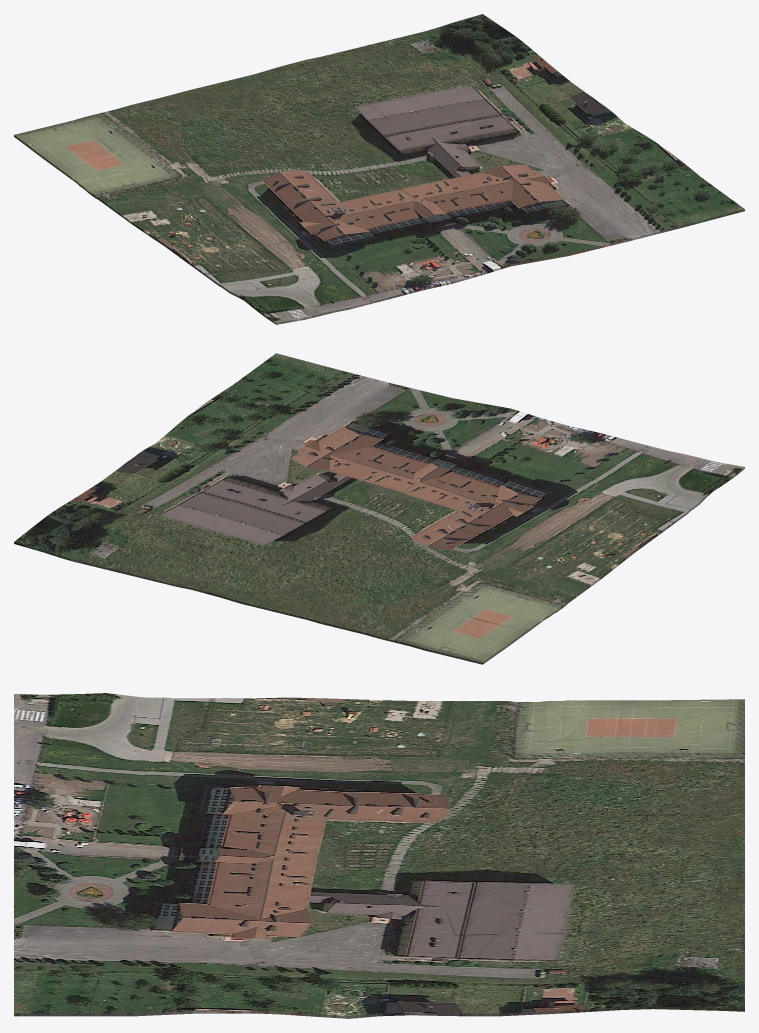
Rendered from school.glb.
3 renders of one model, top to bottom at view 1: azimuth 30°, elevation 25°; view 2: azimuth 150°, elevation 25°; view 3: azimuth 270°, elevation 25°, orthographic. The views are drawn at different scales.
Parts seen in each view (by area): view 1: BuildingMesh-00028, BuildingMesh-00048, BuildingMesh-00049, BuildingMesh-00036, BuildingMesh-00050, BuildingMesh-00051, BuildingMesh-00037, BuildingMesh-00035, BuildingMesh-00025, BuildingMesh-00023, BuildingMesh-00040, BuildingMesh-00022; view 2: BuildingMesh-00023, BuildingMesh-00051, BuildingMesh-00048, BuildingMesh-00022, BuildingMesh-00050, BuildingMesh-00049, BuildingMesh-00028, BuildingMesh-00040, BuildingMesh-00025, BuildingMesh-00035, BuildingMesh-00036, BuildingMesh-00037; view 3: BuildingMesh-00022, BuildingMesh-00035, BuildingMesh-00025, BuildingMesh-00040, BuildingMesh-00028, BuildingMesh-00037, BuildingMesh-00049, BuildingMesh-00048, BuildingMesh-00051, BuildingMesh-00050, BuildingMesh-00036, BuildingMesh-00023.
Part boxes in pixels (bbox=[...]): BuildingMesh-00028: bbox=[540, 143, 744, 241]; BuildingMesh-00048: bbox=[14, 105, 217, 201]; BuildingMesh-00049: bbox=[366, 14, 569, 109]; BuildingMesh-00036: bbox=[219, 140, 422, 235]; BuildingMesh-00050: bbox=[131, 75, 335, 170]; BuildingMesh-00051: bbox=[249, 46, 452, 139]; BuildingMesh-00037: bbox=[336, 110, 539, 204]; BuildingMesh-00035: bbox=[101, 171, 305, 263]; BuildingMesh-00025: bbox=[423, 175, 627, 266]; BuildingMesh-00023: bbox=[306, 205, 510, 297]; BuildingMesh-00040: bbox=[454, 81, 656, 175]; BuildingMesh-00022: bbox=[189, 236, 393, 324]; BuildingMesh-00023: bbox=[424, 408, 627, 507]; BuildingMesh-00051: bbox=[131, 509, 335, 605]; BuildingMesh-00048: bbox=[365, 571, 569, 664]; BuildingMesh-00022: bbox=[541, 440, 744, 535]; BuildingMesh-00050: bbox=[248, 539, 452, 634]; BuildingMesh-00049: bbox=[14, 481, 217, 575]; BuildingMesh-00028: bbox=[189, 353, 393, 447]; BuildingMesh-00040: bbox=[102, 415, 305, 509]; BuildingMesh-00025: bbox=[306, 384, 510, 476]; BuildingMesh-00035: bbox=[453, 508, 657, 601]; BuildingMesh-00036: bbox=[336, 477, 540, 570]; BuildingMesh-00037: bbox=[219, 448, 422, 539]; BuildingMesh-00022: bbox=[14, 693, 257, 782]; BuildingMesh-00035: bbox=[257, 697, 501, 781]; BuildingMesh-00025: bbox=[14, 851, 258, 936]; BuildingMesh-00040: bbox=[257, 934, 501, 1018]; BuildingMesh-00028: bbox=[14, 935, 258, 1016]; BuildingMesh-00037: bbox=[257, 855, 500, 936]; BuildingMesh-00049: bbox=[500, 932, 744, 1016]; BuildingMesh-00048: bbox=[500, 699, 744, 779]; BuildingMesh-00051: bbox=[500, 855, 744, 933]; BuildingMesh-00050: bbox=[500, 777, 744, 856]; BuildingMesh-00036: bbox=[257, 779, 500, 857]; BuildingMesh-00023: bbox=[14, 776, 258, 857].
Size of the model in its own units: 2.09 by 0.0547 by 2.03.
Materials: 12 (12 with a texture image).
